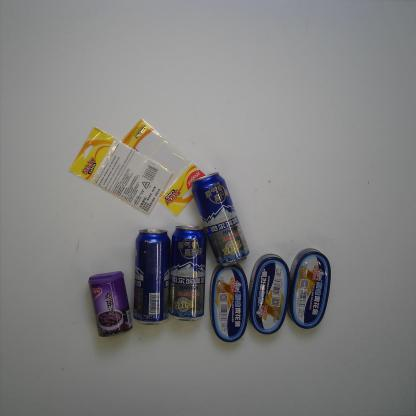Alcohol: (190, 171, 250, 268), (168, 224, 208, 323), (132, 228, 170, 327)
Canned Food: (247, 252, 292, 336), (287, 247, 332, 331), (208, 263, 250, 343), (87, 270, 133, 338)
Stationery: (68, 124, 176, 218), (119, 117, 208, 219)
